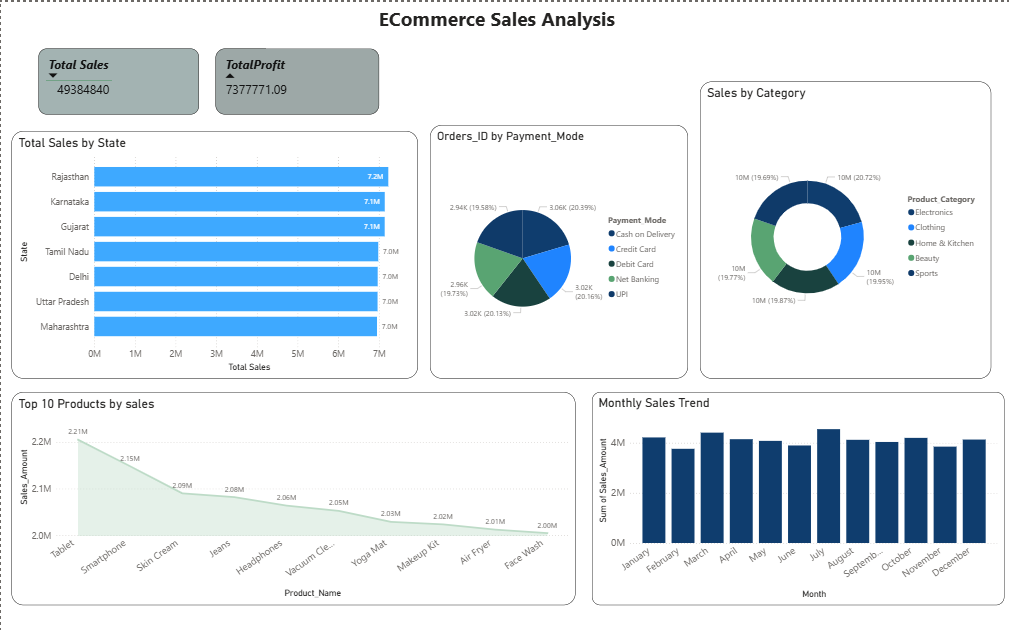

Layout of this report page (visuals, bound fields, positions):
{"tool":"powerbi","page":{"name":"Page 1","canvas":[1490,851],"ordinal":0},"visuals":[{"type":"tableEx","fields":{"Values":["Sum(ecommerce_sales_dataset_15000_r.Sales_Amount)"]},"box":[18.5,22.2,185.2,109.3],"z":0},{"type":"tableEx","fields":{"Values":["Sum(ecommerce_sales_dataset_15000_r.Profit)"]},"box":[216.7,22.2,190.7,109.3],"z":1},{"type":"donutChart","title":"Sales by Category","fields":{"Category":["ecommerce_sales_dataset_15000_r.Product_Category"],"Y":["Sum(ecommerce_sales_dataset_15000_r.Sales_Amount)"]},"box":[442.6,194.4,435.2,287],"z":2},{"type":"clusteredBarChart","fields":{"Category":["ecommerce_sales_dataset_15000_r.State"],"Y":["Sum(ecommerce_sales_dataset_15000_r.Sales_Amount)"]},"box":[918.5,77.8,572.2,357.4],"z":3},{"type":"lineChart","title":"Top 10 Products by sales","fields":{"Category":["ecommerce_sales_dataset_15000_r.Product_Name"],"Y":["Sum(ecommerce_sales_dataset_15000_r.Sales_Amount)"]},"box":[18.5,507.4,811.1,313],"z":4},{"type":"clusteredColumnChart","title":"Monthly Sales Trend","fields":{"Category":["ecommerce_sales_dataset_15000_r.Order_Date.Variation.Date Hierarchy.Month"],"Y":["Sum(ecommerce_sales_dataset_15000_r.Sales_Amount)"]},"box":[877.8,446.3,613,405.6],"z":5},{"type":"pieChart","fields":{"Category":["ecommerce_sales_dataset_15000_r.Payment_Mode"],"Y":["CountNonNull(ecommerce_sales_dataset_15000_r.Order_ID)"]},"box":[18.5,175.9,396.3,305.6],"z":6},{"type":"textbox","box":[442.6,0,616.7,77.8],"z":7}]}

Visuals, with their boxes on the page's 1490x851 design canvas (x1, y1, x2, y2). These are canvas units, not pixel positions in the 1012x631 screenshot, which may show the page scaled, cropped or inside an application window:
tableEx - Sum(ecommerce_sales_dataset_15000_r.Sales_Amount): 18/22/204/132
tableEx - Sum(ecommerce_sales_dataset_15000_r.Profit): 217/22/407/132
"Sales by Category" donutChart: 443/194/878/481
clusteredBarChart - ecommerce_sales_dataset_15000_r.State x Sum(ecommerce_sales_dataset_15000_r.Sales_Amount): 918/78/1491/435
"Top 10 Products by sales" lineChart: 18/507/830/820
"Monthly Sales Trend" clusteredColumnChart: 878/446/1491/852
pieChart - ecommerce_sales_dataset_15000_r.Payment_Mode x CountNonNull(ecommerce_sales_dataset_15000_r.Order_ID): 18/176/415/482
textbox: 443/0/1059/78
